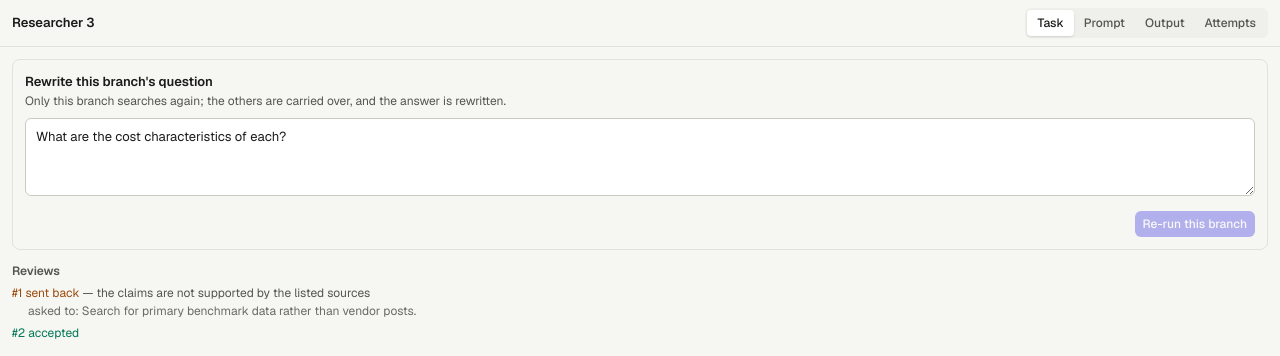
Test case: rewriting a branch › shows the API's reason for refusing
Replace the text in the text box labelled "Rewrite this branch's question" with "Which current models support context windows of 1M tokens or more?": (640, 157) [25, 118, 1255, 196]
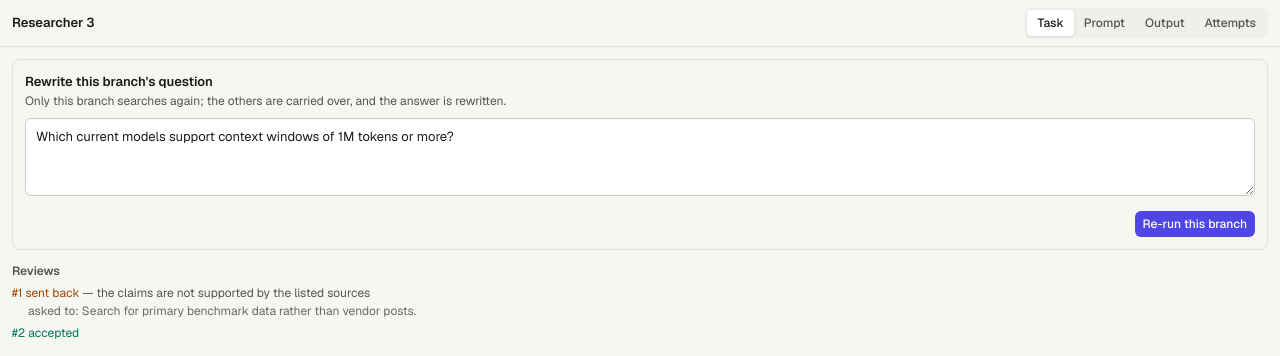
Click the button "Re-run this branch": click(1195, 224) [1135, 211, 1255, 237]
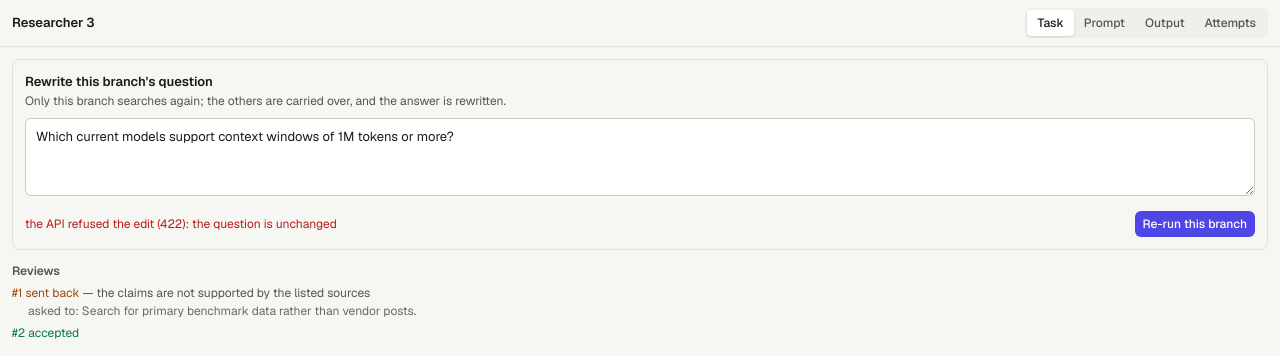
Result: the message reads "the API refused the edit (422): the question is unchanged" at [25, 216, 337, 232]
